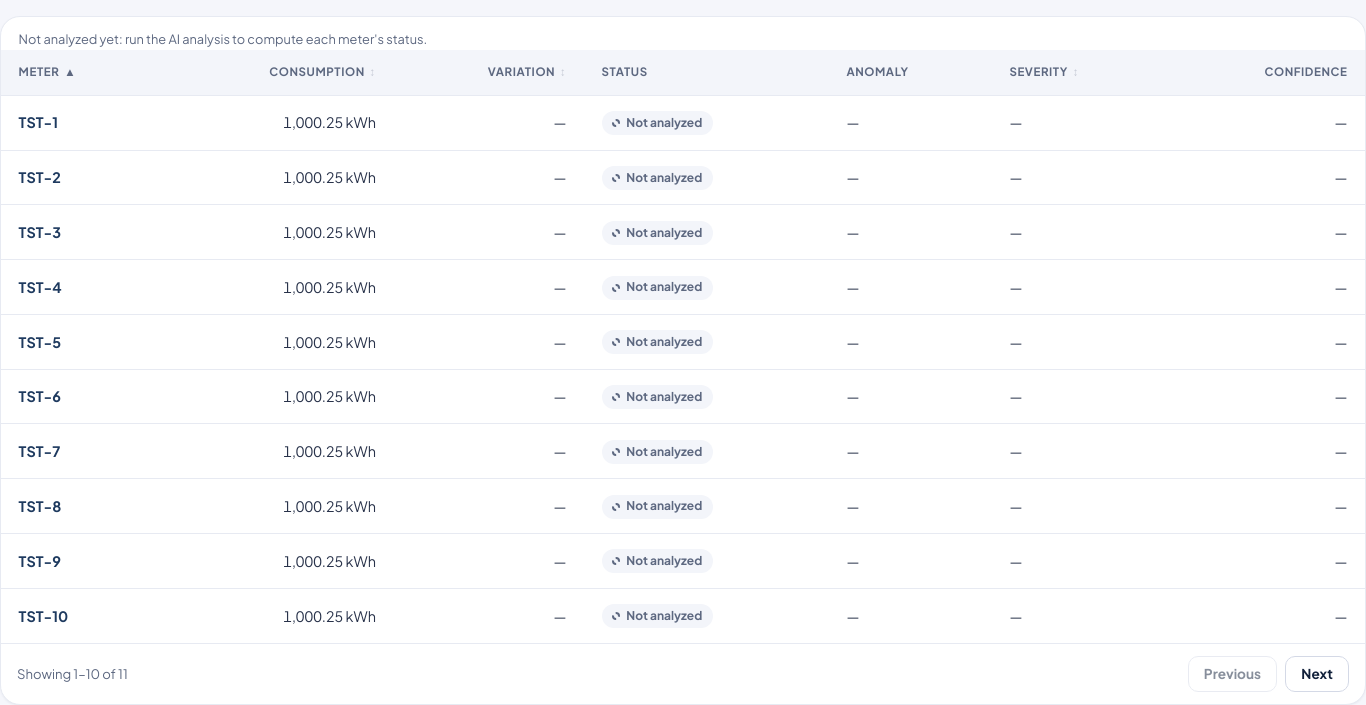
Test: MetersView › paginates with offsets
(page scrolled)
Expected: the text "Showing 1–10 of 11" is shown, [17,664,128,684]
Expected: the button "Previous" is disabled, [1188,656,1277,692]
Click the button "Next": {"x": 1317, "y": 674} [1285,656,1349,692]
(page scrolled)
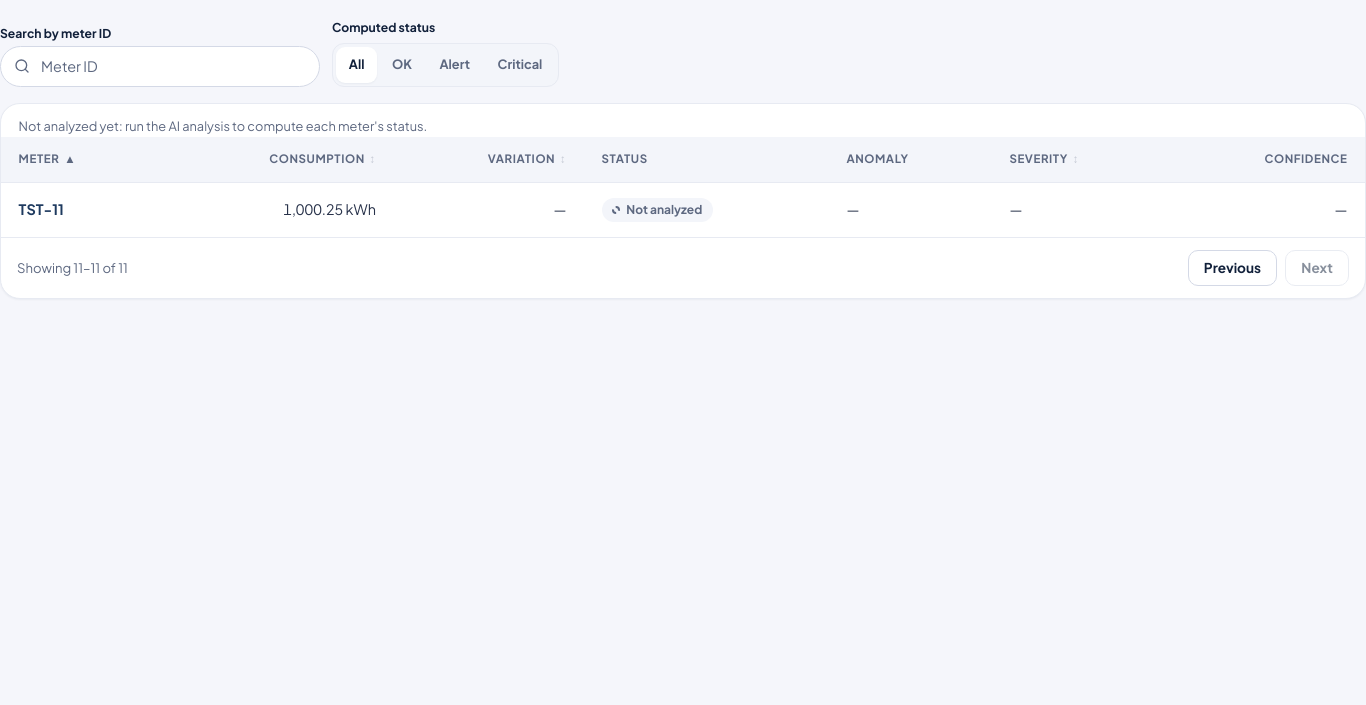
Result: the text "Showing 11–11 of 11" is shown at [17,258,128,278]
Result: the button "Next" is disabled at [1285,250,1349,286]
